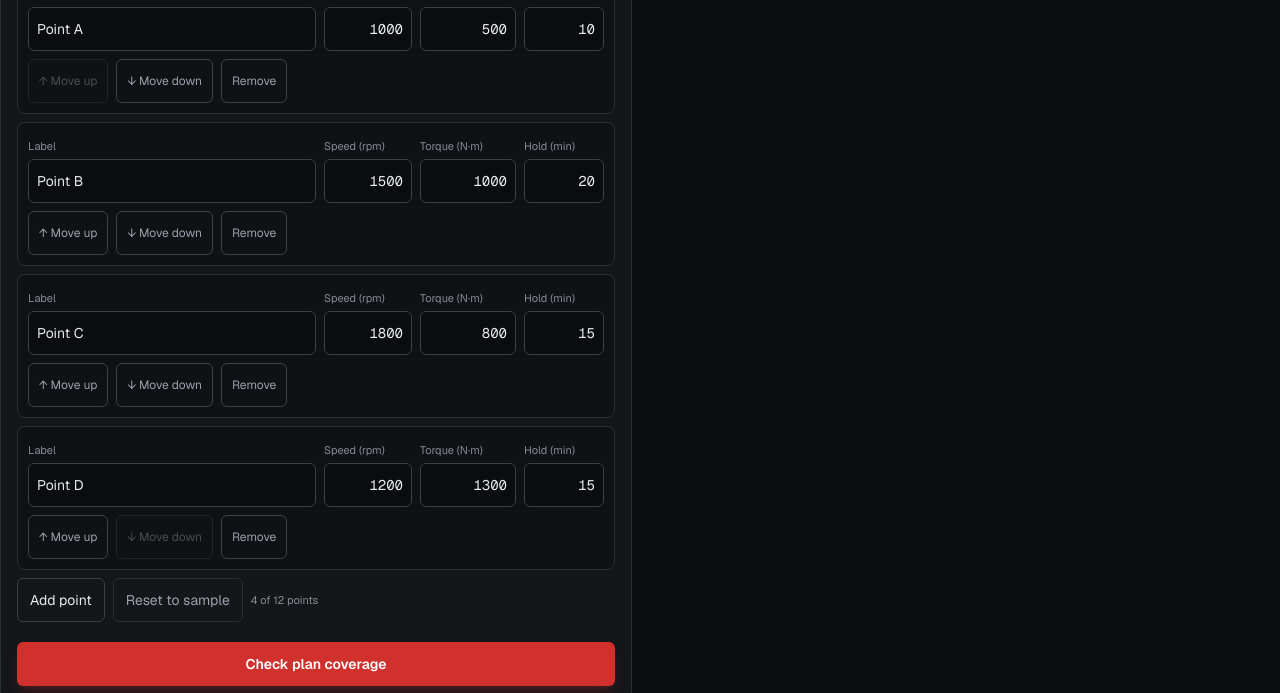
Test: Engine Test-Plan Workbench: results › shows the server's coverage, labeled as planned coverage and never verified
(page scrolled)
Click the button "Check plan coverage": (316, 664) [17, 642, 615, 686]
(page scrolled)
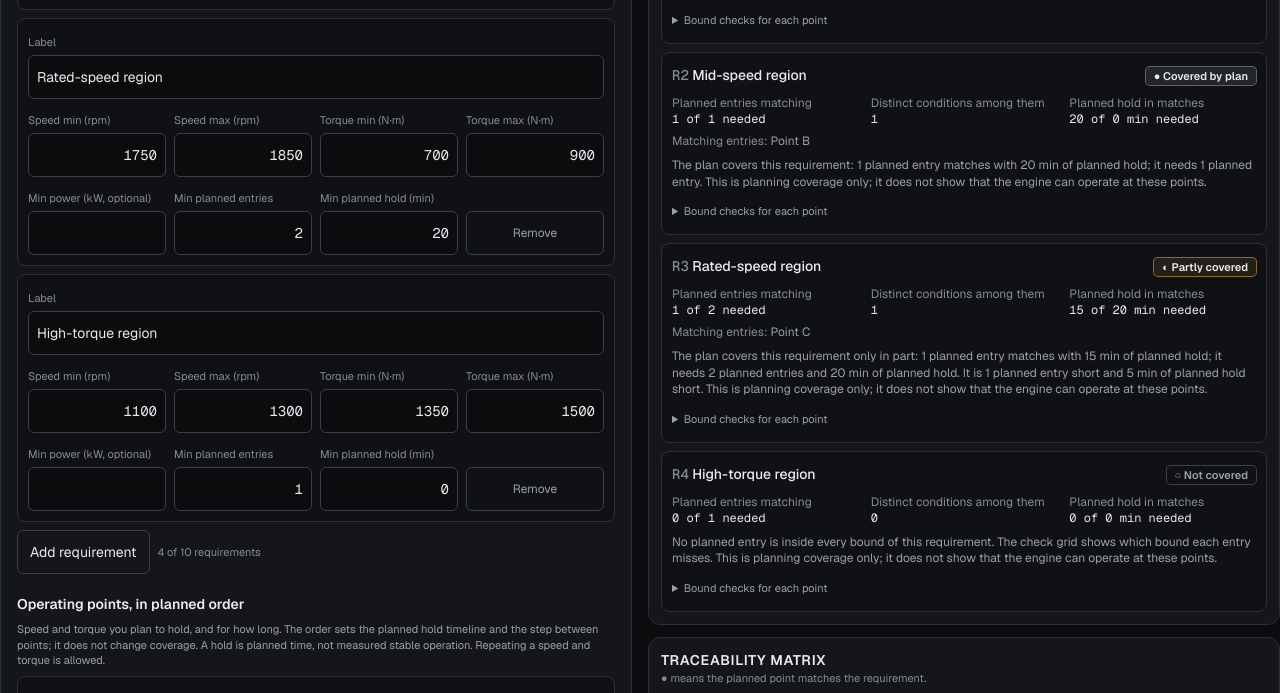
Expected: the element showing "○ Not covered" is shown, [1167, 466, 1256, 484]
Expected: the list item that starts with "Rated-speed region" shows "1 of 2 needed", [672, 302, 766, 318]
Expected: the list item that starts with "Rated-speed region" shows "15 of 20 min needed", [1069, 302, 1206, 318]
